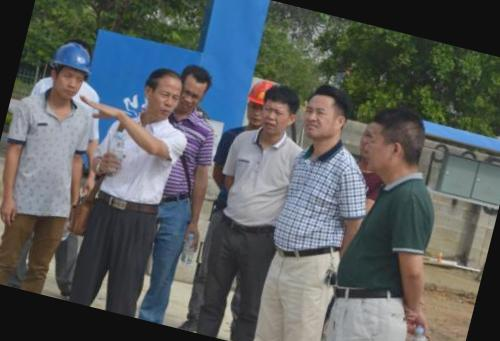no_helmet: (352, 98, 434, 188), (297, 81, 358, 152), (250, 76, 306, 145), (134, 60, 190, 123), (170, 54, 220, 118)
